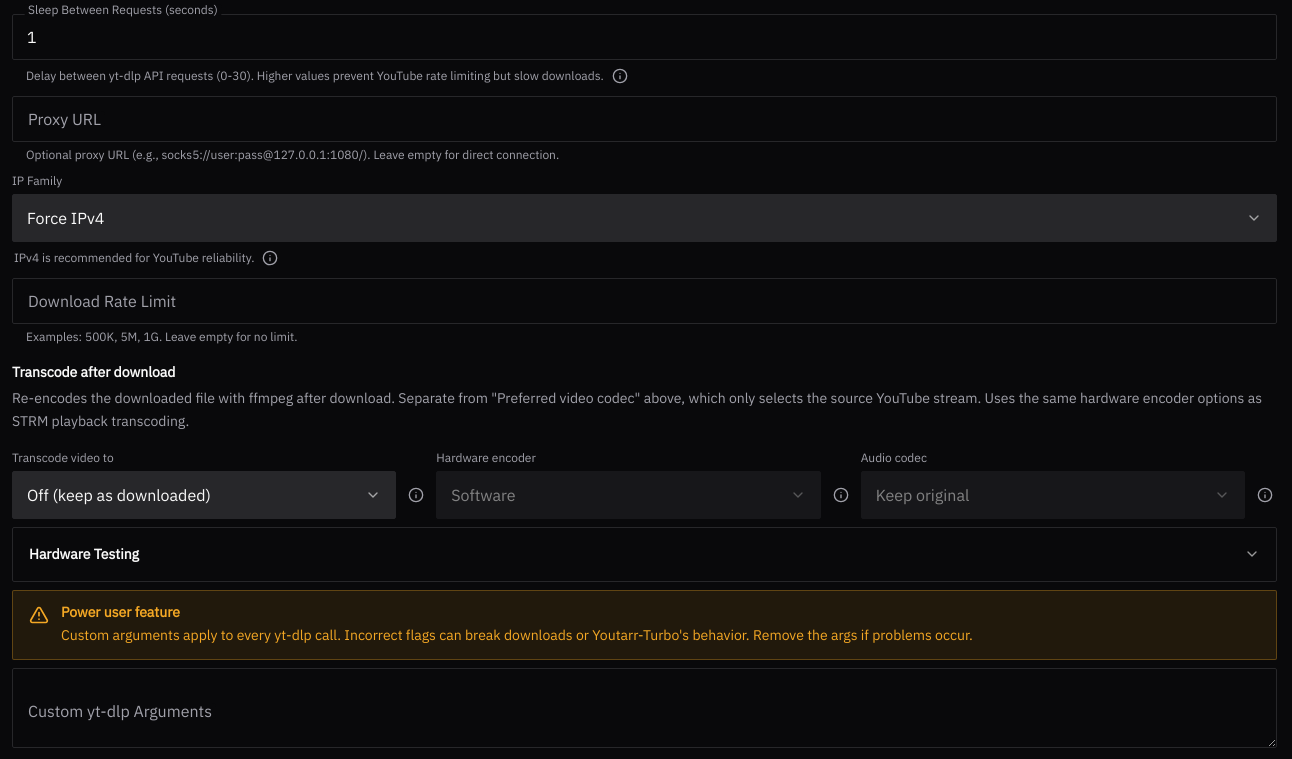
Test case: YtdlpOptionsSection › typing a positional token in custom args shows inline error and disables validation
The image size is (1292, 759).
Type "5M" into the text box labelled "Custom yt-dlp Arguments" at [644, 708], box [12,668,1277,748]
(page scrolled)
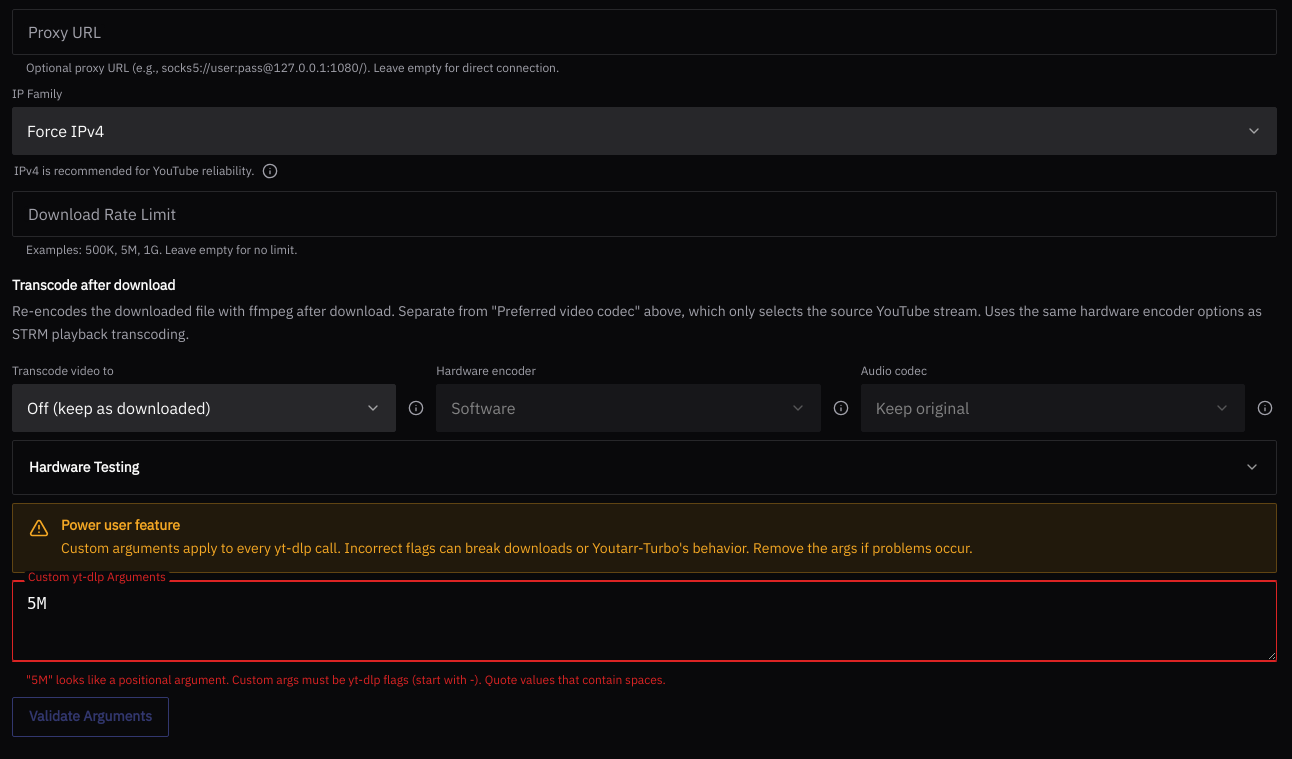
Check: the button "Validate Arguments" is disabled, box [12,696,169,736]
Check: the text "looks like a positional argument" is shown, box [26,672,666,686]
